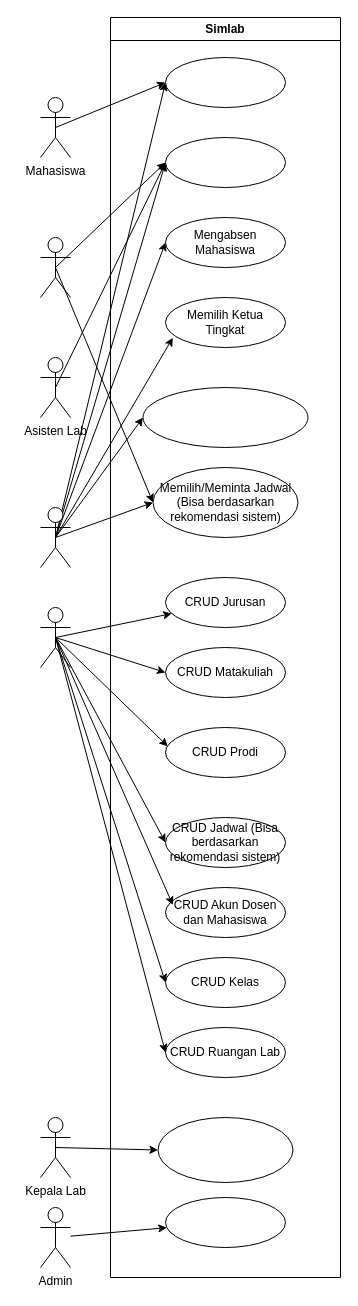
The diagram is 358 pixels wide and 1306 high, and some of its shapes have lost their labels. Here are the shapes that lost their labels. From the top down, the centre of each, then its label:
At point 225,82: "Mengabsen Diri".
At point 225,162: "Membuka Absen".
At point 55,267: "Ketua Tingkat".
At point 225,417: "Memilih Asisten Lab (Bisa berdasarkan rekomendasi sistem)".
At point 55,537: "Dosen".
At point 55,637: "Pengelola Lab".
At point 225,1149: "Menyetujui perminataan jadwal dari dosen atau ketua tingkat".
At point 225,1222: "CRUD Akun Pengelola Lab dan Kepala Lab".
